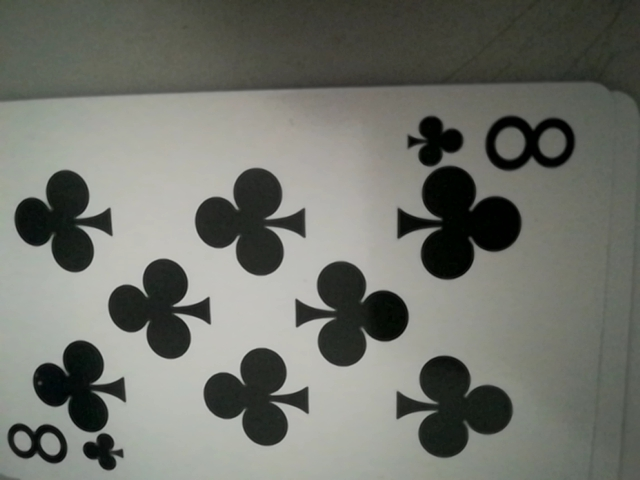mh 8: (400, 101, 575, 175), (2, 421, 134, 478)
